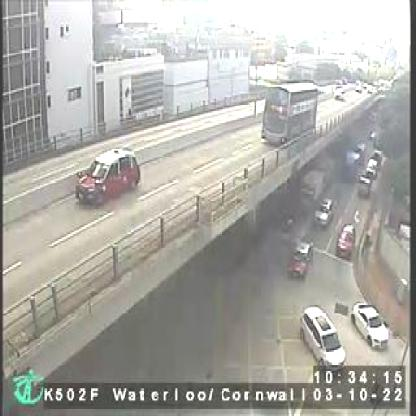Bus: (262, 83, 318, 140)
Car: (76, 147, 140, 203), (300, 305, 346, 369), (350, 302, 387, 348), (283, 241, 311, 279), (334, 222, 354, 255), (313, 199, 334, 222)
Truck: (358, 144, 382, 194), (299, 168, 324, 201)
